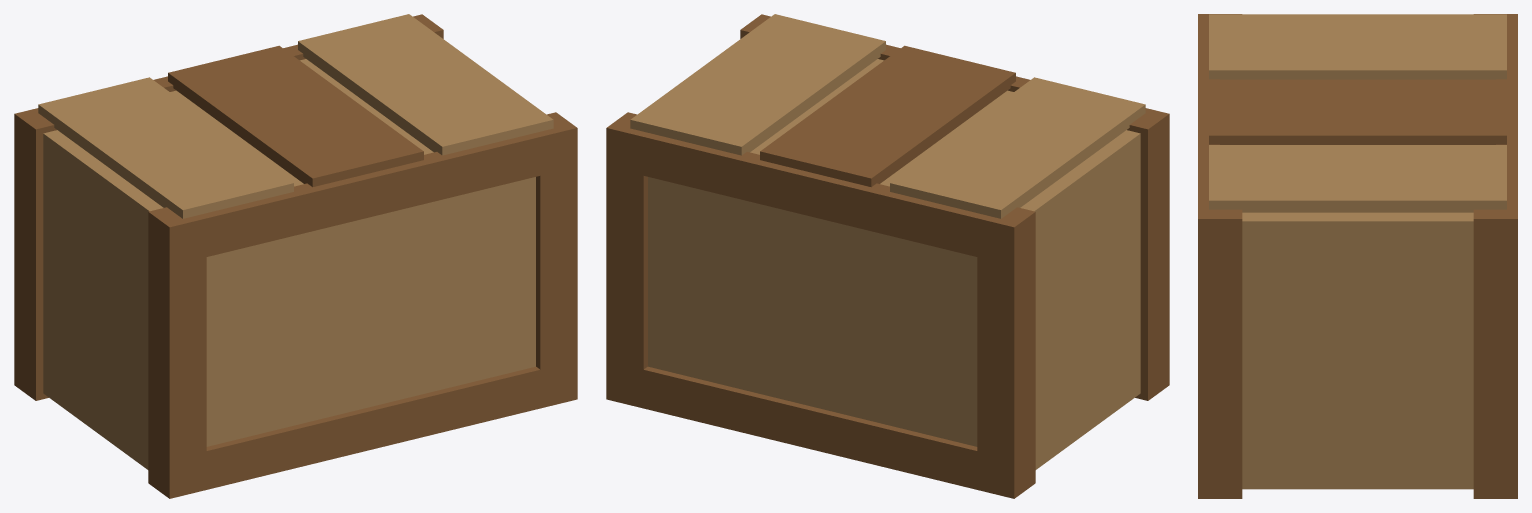
The model's file is crate_arms.glb.
3 renders of one model, left to right at view 1: azimuth 30°, elevation 25°; view 2: azimuth 150°, elevation 25°; view 3: azimuth 270°, elevation 25°, orthographic. The views are drawn at different scales.
Parts seen in each view (by area): view 1: crate_arms; view 2: crate_arms; view 3: crate_arms.
Boxes of the visible parts, box(x1,y1,x2,y2) form: crate_arms: box(14, 14, 577, 498); crate_arms: box(606, 14, 1169, 498); crate_arms: box(1198, 14, 1517, 498).
Size of the model in its own units: 0.44 by 0.289 by 0.29.
